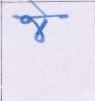e_matra: (29, 2, 47, 15)
